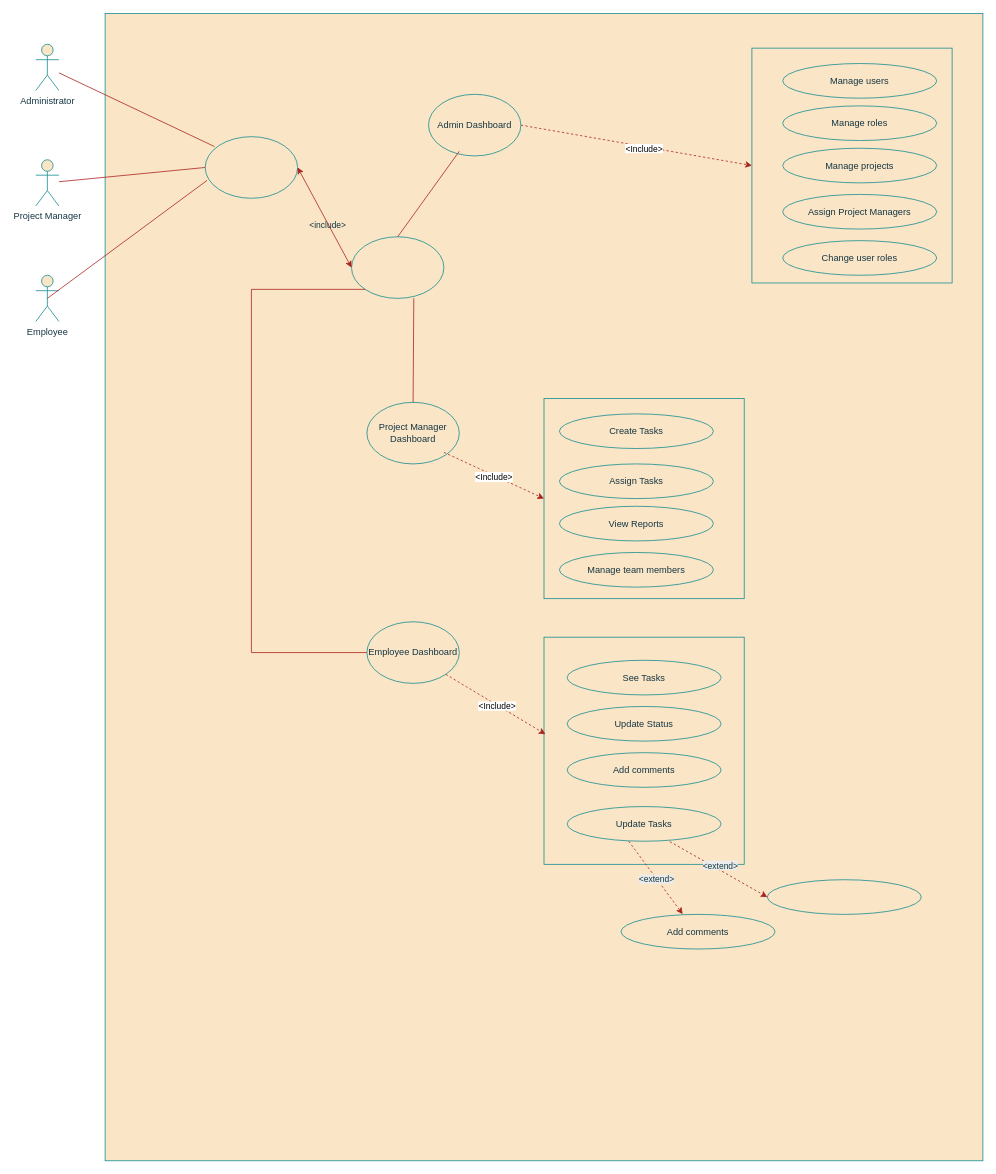
This 996x1174 diagram has some shape labels left out. Here are the shapes that lost their labels. From the top down, the centre of each, then its label:
At (251,167): "Login".
At (397,267): "Access Dashboard".
At (844,896): "Add attachments".
